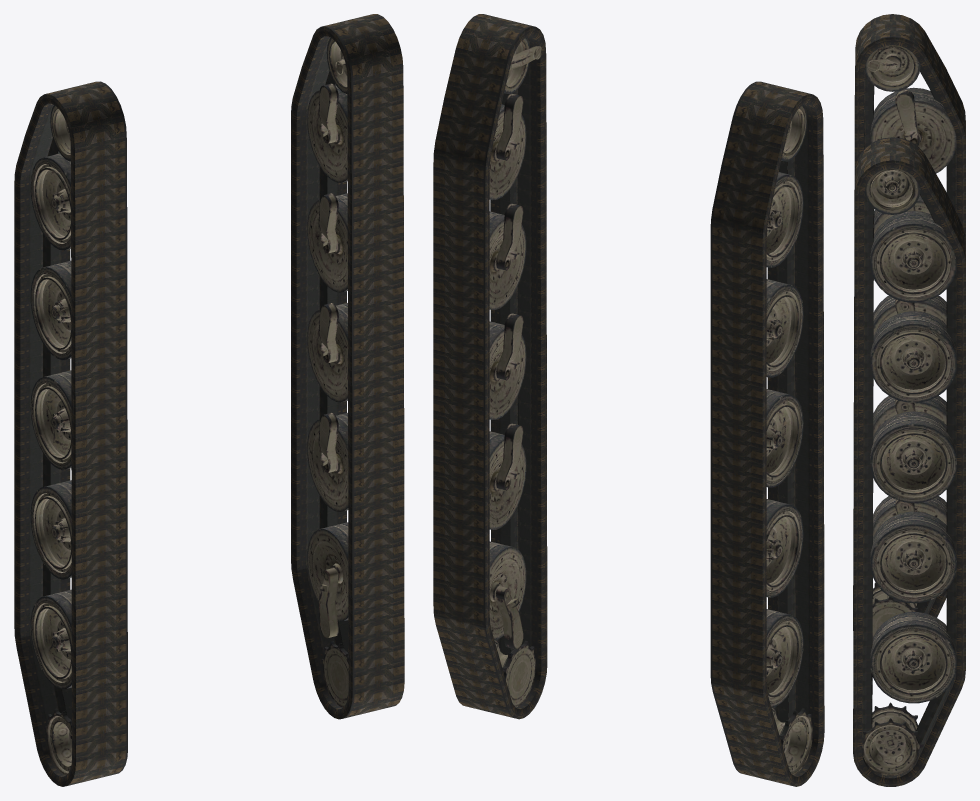
The model's file is Chassis.glb.
The picture shows the model from 3 angles, left to right: view 1: azimuth 30°, elevation 25°; view 2: azimuth 150°, elevation 25°; view 3: azimuth 270°, elevation 25°; orthographic projection. The views are drawn at different scales.
Visible parts, largest first — view 1: set_0_group_0, set_1_group_0, set_3_group_0, set_2_group_0; view 2: set_0_group_0, set_1_group_0, set_3_group_0, set_2_group_0; view 3: set_3_group_0, set_1_group_0, set_2_group_0, set_0_group_0.
Part boxes in pixels (left/top/right/bottom): set_0_group_0: left=14, top=81, right=127, bottom=786; set_1_group_0: left=291, top=14, right=404, bottom=719; set_3_group_0: left=307, top=37, right=348, bottom=707; set_2_group_0: left=30, top=105, right=71, bottom=774; set_0_group_0: left=710, top=81, right=824, bottom=786; set_1_group_0: left=433, top=14, right=547, bottom=719; set_3_group_0: left=489, top=37, right=541, bottom=707; set_2_group_0: left=766, top=105, right=812, bottom=774; set_3_group_0: left=862, top=168, right=956, bottom=775; set_1_group_0: left=853, top=137, right=965, bottom=786; set_2_group_0: left=864, top=45, right=956, bottom=637; set_0_group_0: left=853, top=14, right=965, bottom=631.
Bounding box in the file's own units: 3.31 × 6.57 × 1.07.
Materials: 4 (4 with a texture image).
